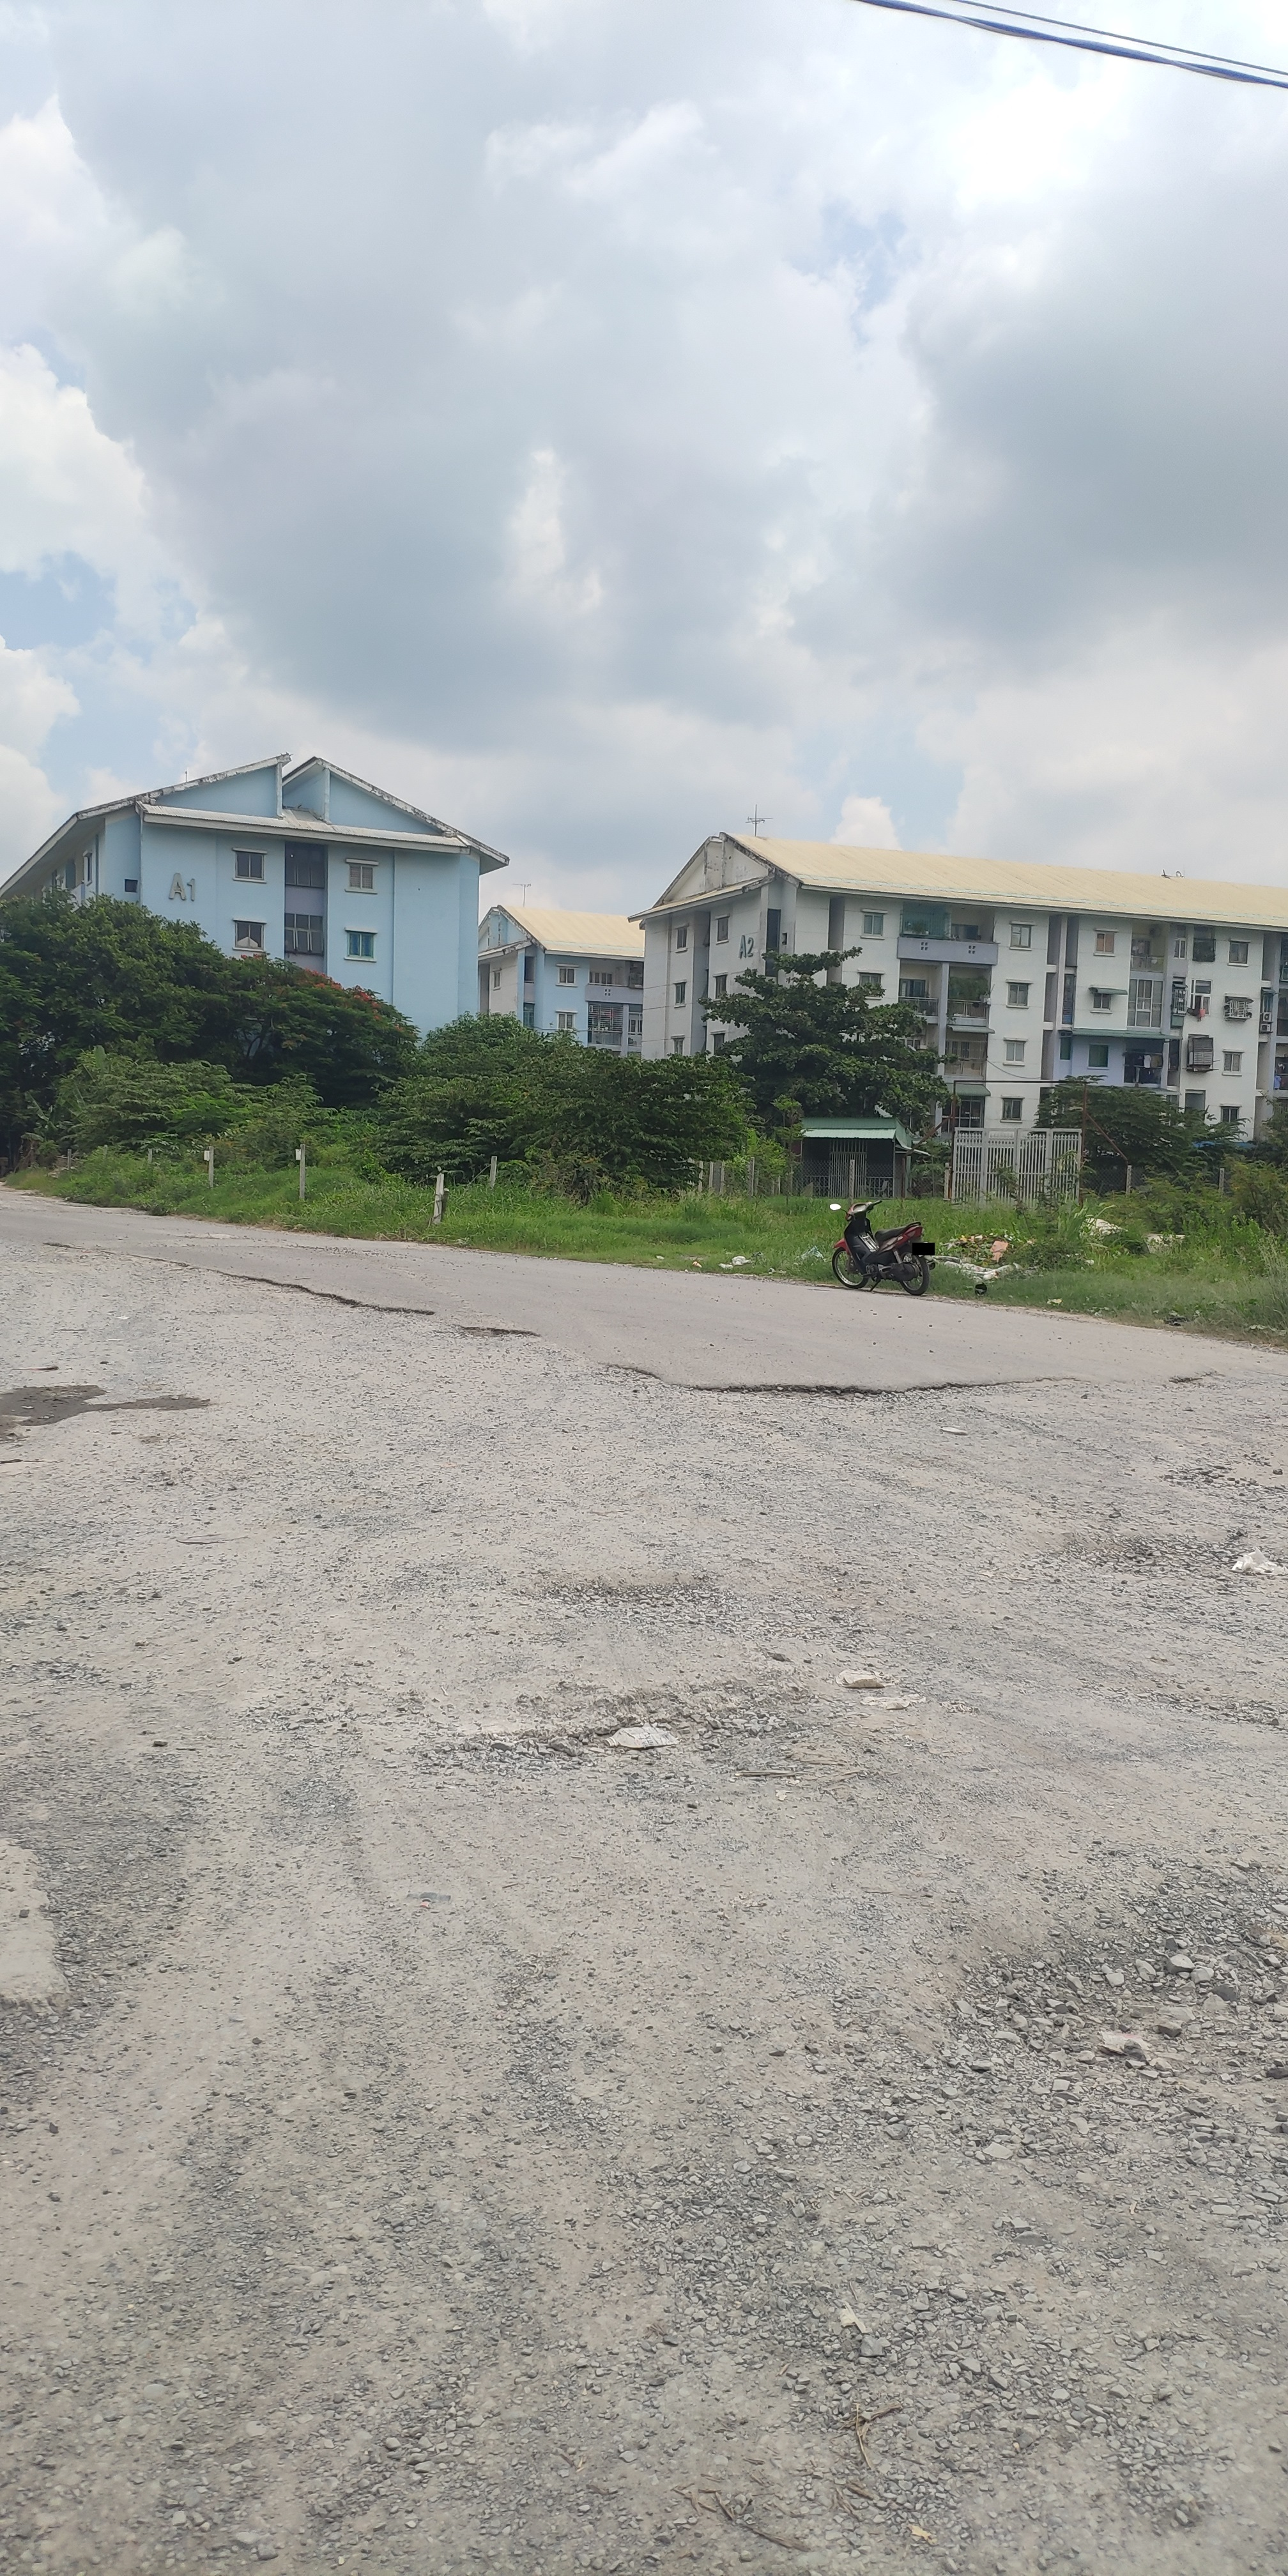hole: (963, 1860, 1288, 2124), (386, 1671, 823, 1791), (513, 1564, 767, 1625), (1035, 1526, 1288, 1585), (698, 1372, 1102, 1401), (1157, 1439, 1288, 1510), (1161, 1365, 1258, 1396), (457, 1319, 540, 1344)
